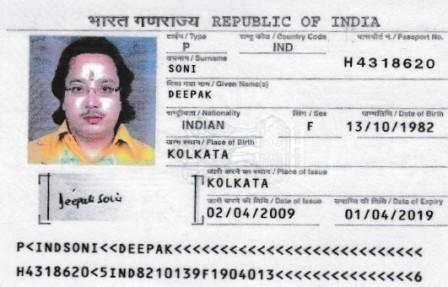DOB: (347, 120, 438, 134)
Surname: (156, 60, 212, 73)
country_code: (270, 39, 298, 54)
date_of_expiry: (340, 205, 435, 224)
date_of_issue: (204, 206, 301, 221)
details: (13, 239, 431, 286)
name: (168, 87, 211, 100)
nationality: (178, 118, 227, 131)
passport_no: (343, 54, 435, 71)
photo: (29, 34, 153, 166)
place_of_birth: (163, 147, 233, 160)
place_of_issue: (205, 176, 273, 189)
sex: (305, 121, 314, 131)
sign: (57, 184, 125, 217)
type: (176, 40, 194, 54)
